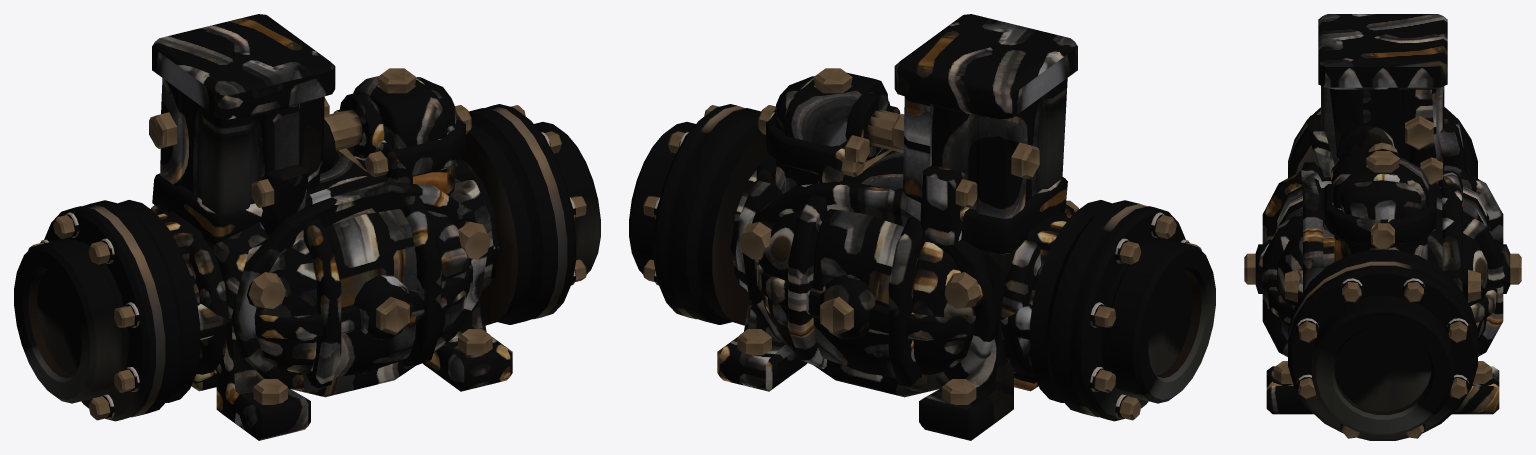
File: Pump_shape_cleanup.fbx
3 renders of one model, left to right at view 1: azimuth 30°, elevation 25°; view 2: azimuth 150°, elevation 25°; view 3: azimuth 270°, elevation 25°, orthographic. The views are drawn at different scales.
Parts seen in each view (by area): view 1: tripo_convert_23e97eb0_8bde_402a_bfff_ac4c4e33ca50; view 2: tripo_convert_23e97eb0_8bde_402a_bfff_ac4c4e33ca50; view 3: tripo_convert_23e97eb0_8bde_402a_bfff_ac4c4e33ca50.
Part boxes in pixels (left/top/right/bottom): tripo_convert_23e97eb0_8bde_402a_bfff_ac4c4e33ca50: left=14, top=14, right=600, bottom=440; tripo_convert_23e97eb0_8bde_402a_bfff_ac4c4e33ca50: left=629, top=14, right=1215, bottom=440; tripo_convert_23e97eb0_8bde_402a_bfff_ac4c4e33ca50: left=1244, top=14, right=1521, bottom=440.
Size of the model in its own units: 0.998 by 0.6201 by 0.5352.
